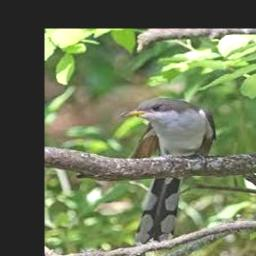Cuckoo: (120, 97, 217, 245)
